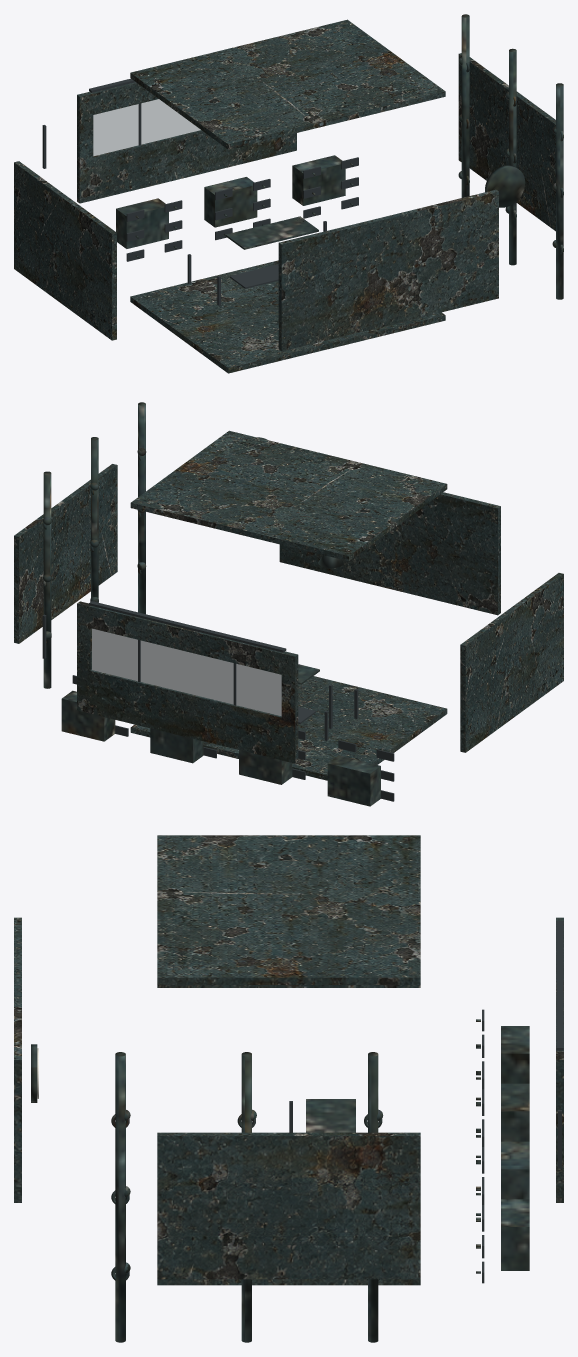
The model's file is SM_Env_Watchroom.fbx.
The picture shows the model from 3 angles, top to bottom: view 1: azimuth 30°, elevation 25°; view 2: azimuth 150°, elevation 25°; view 3: azimuth 270°, elevation 25°; orthographic projection. The views are drawn at different scales.
Visible parts, largest first — view 1: wr-wall-back, wr-ceiling, wr-wall-left, wr-floor, wr-wall-window, wr-wall-right, wr-glass, wr-cab-3, wr-cab-2, wr-cab-1, wr-pipe-0, wr-bench-top (+4 smaller); view 2: wr-ceiling, wr-wall-window, wr-wall-back, wr-wall-left, wr-wall-right, wr-floor, wr-glass, wr-cab-0, wr-pipe-2, wr-cab-3, wr-pipe-0, wr-cab-2 (+3 smaller); view 3: wr-ceiling, wr-wall-right, wr-pipe-0, wr-wall-back, wr-cab-3, wr-cab-1, wr-cab-2, wr-floor, wr-bench-top, wr-cab-0, wr-pipe-1, wr-pipe-2 (+3 smaller).
Boxes of the visible parts, left/top/right/bottom form: wr-wall-back: left=278, top=189, right=498, bottom=351; wr-ceiling: left=130, top=19, right=445, bottom=149; wr-wall-left: left=14, top=161, right=116, bottom=340; wr-floor: left=130, top=260, right=445, bottom=373; wr-wall-window: left=77, top=82, right=296, bottom=203; wr-wall-right: left=458, top=53, right=555, bottom=231; wr-glass: left=93, top=99, right=200, bottom=156; wr-cab-3: left=292, top=155, right=345, bottom=205; wr-cab-2: left=204, top=177, right=257, bottom=227; wr-cab-1: left=116, top=198, right=168, bottom=248; wr-pipe-0: left=556, top=83, right=563, bottom=299; wr-bench-top: left=225, top=216, right=318, bottom=249; wr-ceiling: left=130, top=430, right=447, bottom=561; wr-wall-window: left=77, top=601, right=298, bottom=763; wr-wall-back: left=279, top=492, right=500, bottom=615; wr-wall-left: left=460, top=573, right=563, bottom=752; wr-wall-right: left=14, top=464, right=117, bottom=643; wr-floor: left=130, top=676, right=447, bottom=780; wr-glass: left=92, top=628, right=281, bottom=716; wr-cab-0: left=327, top=755, right=380, bottom=806; wr-pipe-2: left=43, top=471, right=51, bottom=688; wr-cab-3: left=61, top=690, right=115, bottom=741; wr-pipe-0: left=138, top=402, right=145, bottom=614; wr-cab-2: left=150, top=728, right=203, bottom=763; wr-ceiling: left=157, top=835, right=420, bottom=984; wr-wall-right: left=157, top=1132, right=420, bottom=1279; wr-pipe-0: left=115, top=1052, right=125, bottom=1342; wr-wall-back: left=14, top=917, right=21, bottom=1202; wr-cab-3: left=501, top=1199, right=529, bottom=1270; wr-cab-1: left=501, top=1083, right=529, bottom=1141; wr-cab-2: left=501, top=1141, right=529, bottom=1199; wr-floor: left=157, top=1279, right=420, bottom=1285; wr-bench-top: left=306, top=1099, right=355, bottom=1132; wr-cab-0: left=501, top=1026, right=529, bottom=1083; wr-pipe-1: left=241, top=1052, right=251, bottom=1342; wr-pipe-2: left=368, top=1052, right=378, bottom=1342.
Bounding box in the file's own units: 662 × 323 × 523.
8 materials, 4 textured.
